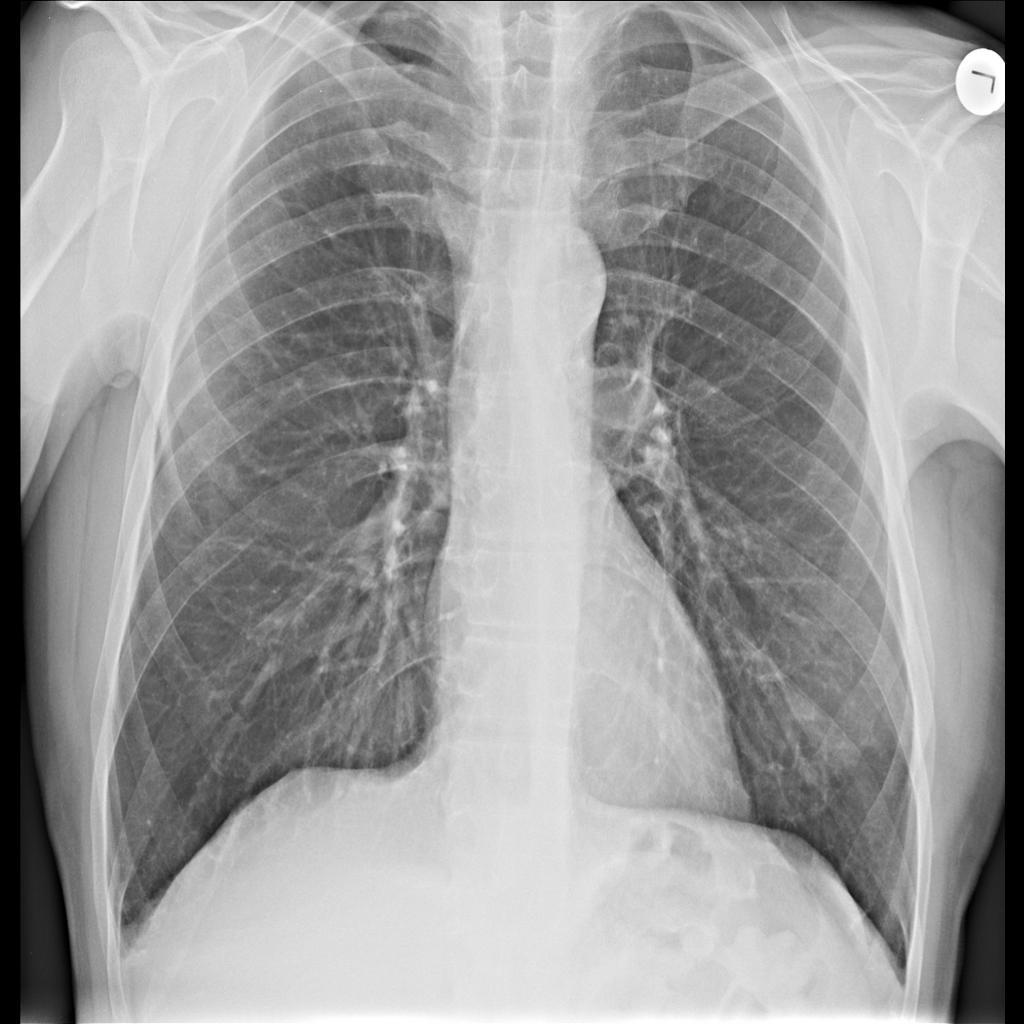Nodule: (783, 686, 836, 734)
